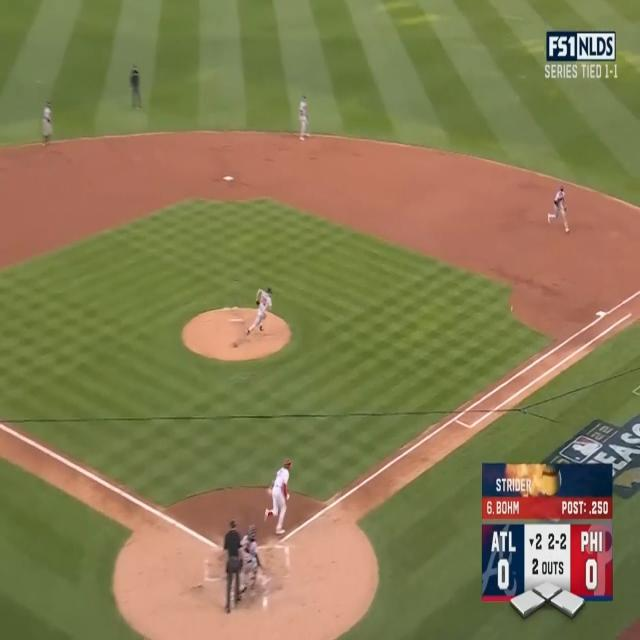baseball: (511, 306, 513, 312)
